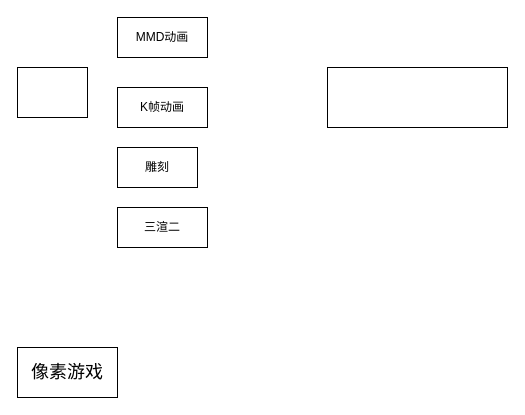
Image size: 525x415. Some labels were removed from this diagram. Here are the shapes that lost their labels. From the top down, the centre of each, then its label:
At [52,92]: "建模".
At [417,97]: "硬件控制，做cos道具".
